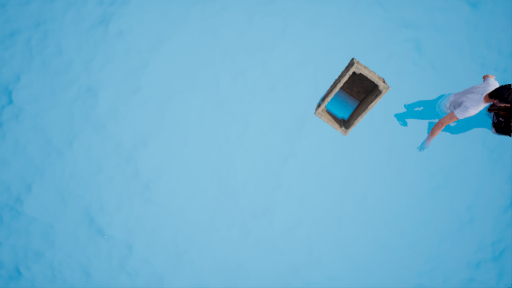person: (399, 72, 512, 148)
